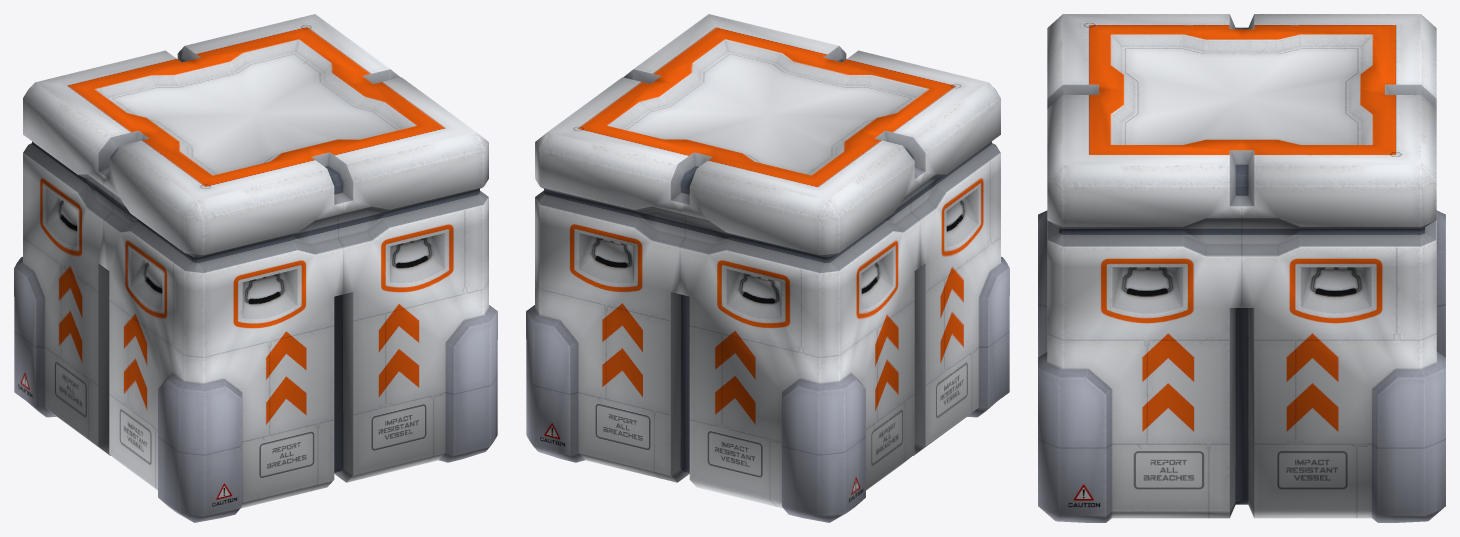
Rendered from Crate.fbx.
3 views of the same model, side by side, from view 1: azimuth 30°, elevation 25°; view 2: azimuth 150°, elevation 25°; view 3: azimuth 270°, elevation 25° (orthographic). The views are drawn at different scales.
Parts seen in each view (by area): view 1: Crate_A; view 2: Crate_A; view 3: Crate_A.
Boxes of the visible parts, x1=… form: Crate_A: x1=14, y1=14, x2=497, y2=522; Crate_A: x1=526, y1=14, x2=1009, y2=522; Crate_A: x1=1038, y1=14, x2=1445, y2=522.
Bounding box in the file's own units: 105 × 100 × 105.
1 material, 1 textured.
